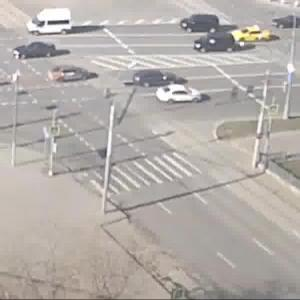car: (26, 8, 75, 35), (151, 84, 200, 108), (13, 39, 62, 61), (190, 33, 236, 56), (131, 70, 186, 87), (53, 64, 93, 85), (237, 27, 271, 46), (183, 17, 220, 34), (274, 18, 300, 34)
